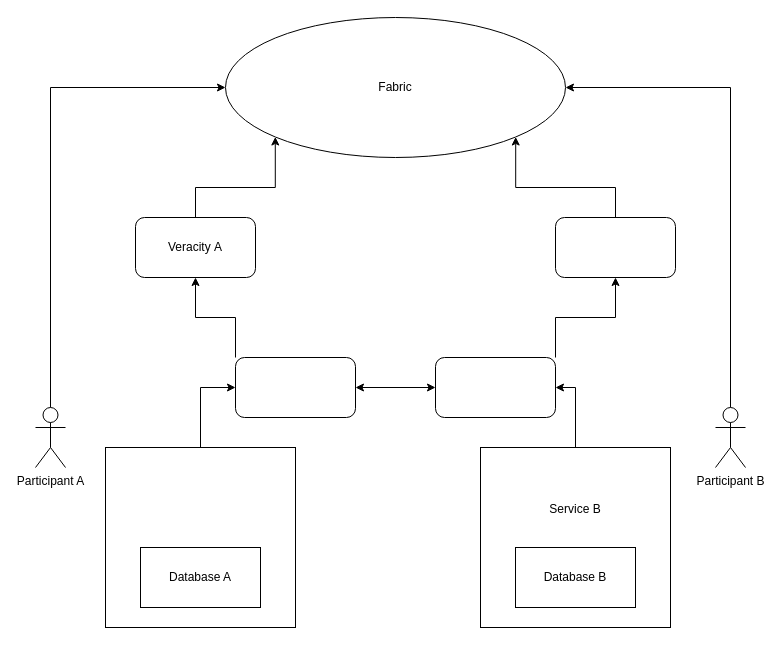
This 782x645 diagram has some shape labels left out. Each missing label, with the box of its shape:
Connector A: (234, 356, 356, 418)
Connector B: (434, 356, 556, 418)
Service A: (104, 446, 296, 628)
Veracity B: (554, 216, 676, 278)
